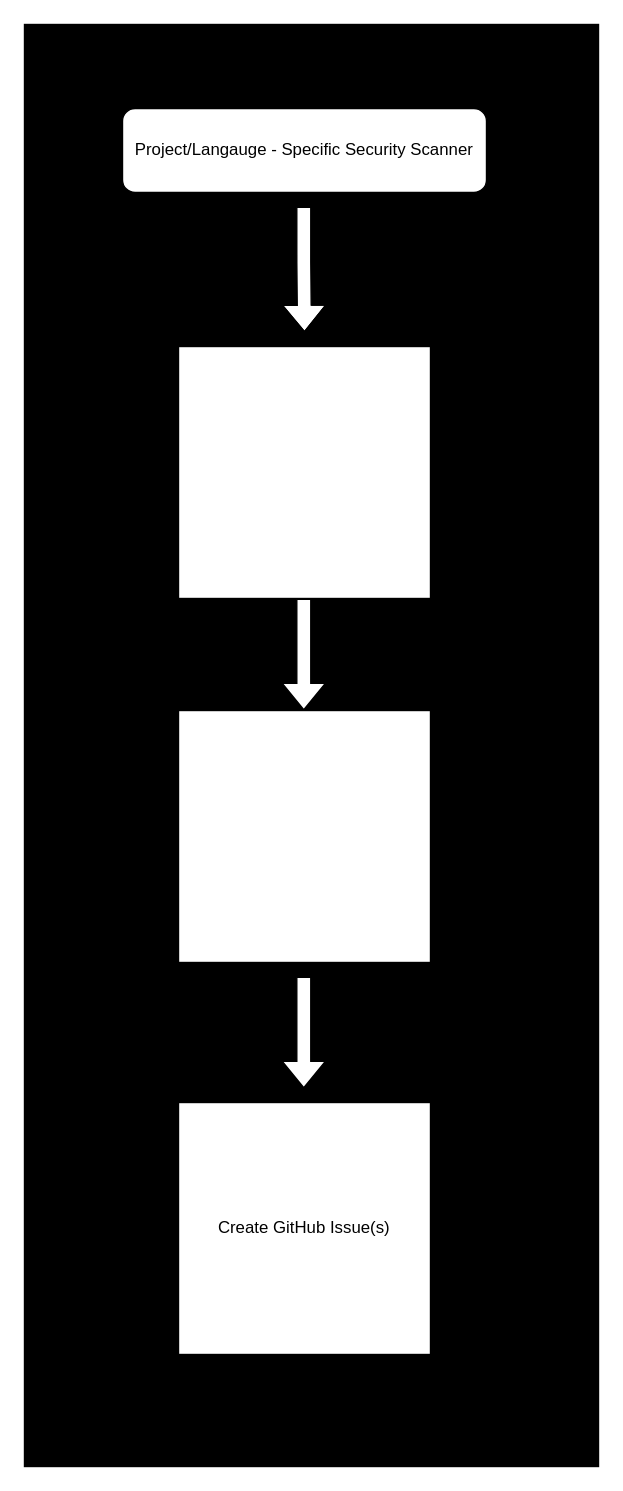
The diagram is 623 pixels wide and 1491 high, and some of its shapes have lost their labels. The shapes that lost their labels are listed below. From the top down, each one's box as (x1, y1, x2, y2) in pixels, then its label:
(177, 345, 430, 598): Input Format Conversion
(177, 709, 430, 962): CVE - Filter
